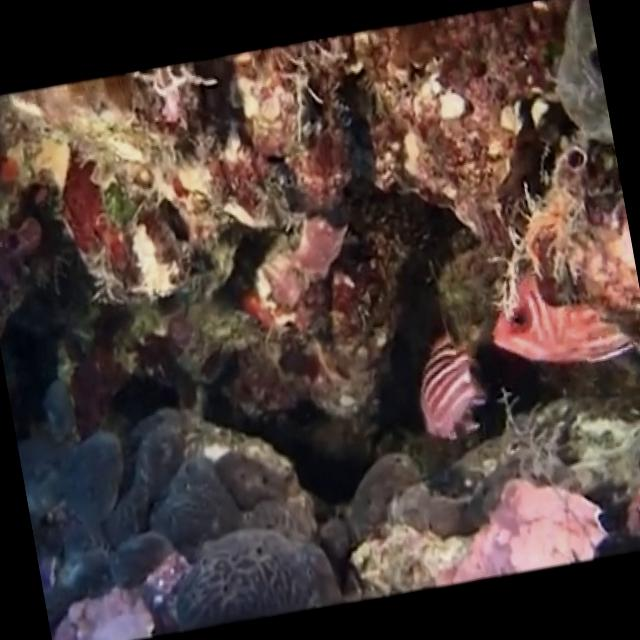Asker Baligi: (402, 330, 501, 446)
